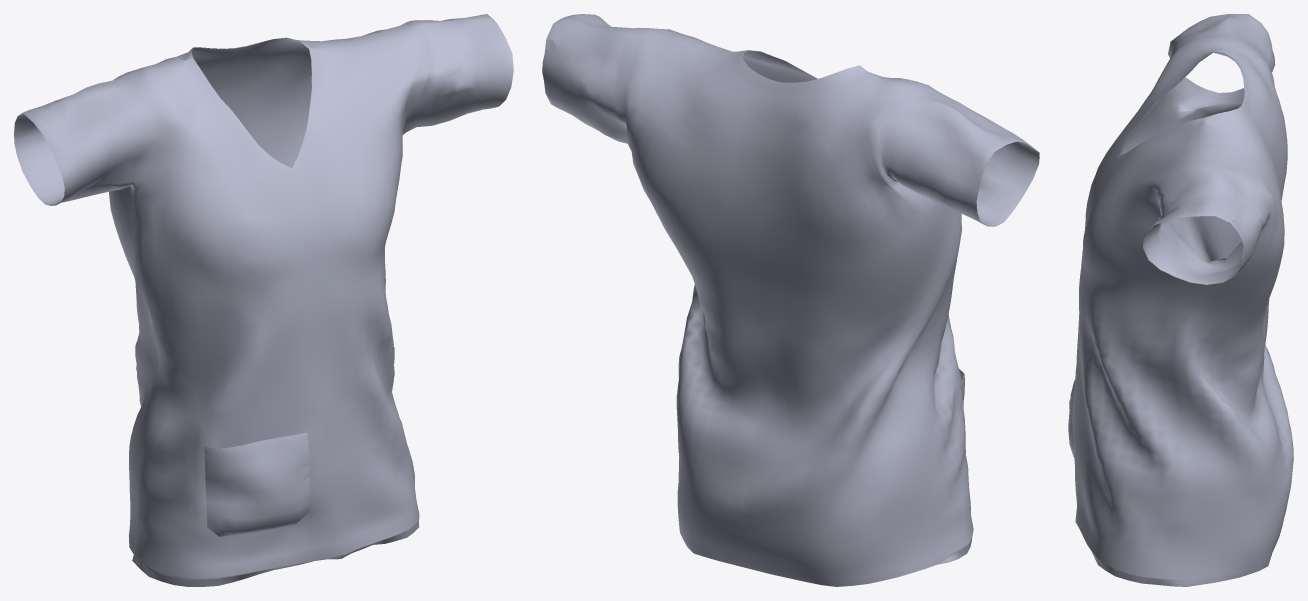
The model's file is ScrubShirt.fbx.
The picture shows the model from 3 angles, left to right: view 1: azimuth 30°, elevation 25°; view 2: azimuth 150°, elevation 25°; view 3: azimuth 270°, elevation 25°; orthographic projection. The views are drawn at different scales.
Visible parts, largest first — view 1: ScrubShirt; view 2: ScrubShirt; view 3: ScrubShirt.
Part boxes in pixels (x1,y1,x2,y2): ScrubShirt: [14, 14, 513, 586]; ScrubShirt: [542, 14, 1039, 586]; ScrubShirt: [1068, 14, 1293, 586].
Bounding box in the file's own units: 69.26 × 71.57 × 32.16.
